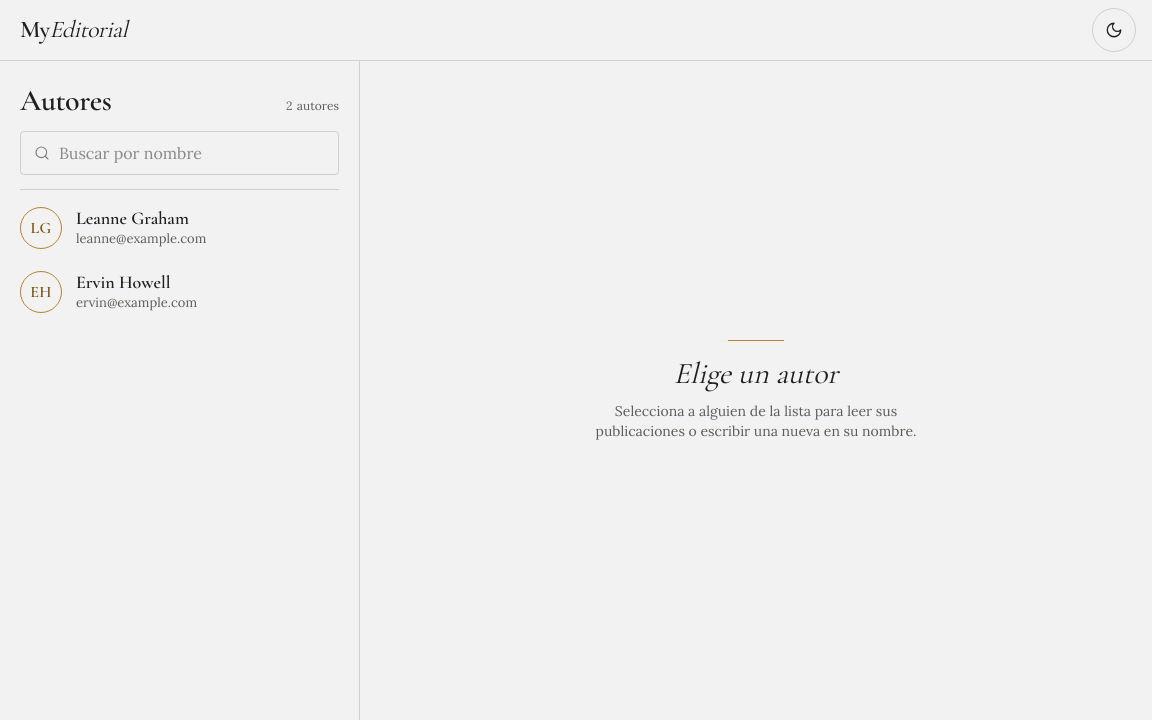
Test: App › R2: choosing an author shows their header and posts
This screenshot has width=1152, height=720.
Click the button "LG Leanne Graham leanne@example.com" at point(180, 228), box x1=8 y1=196 x2=351 y2=260
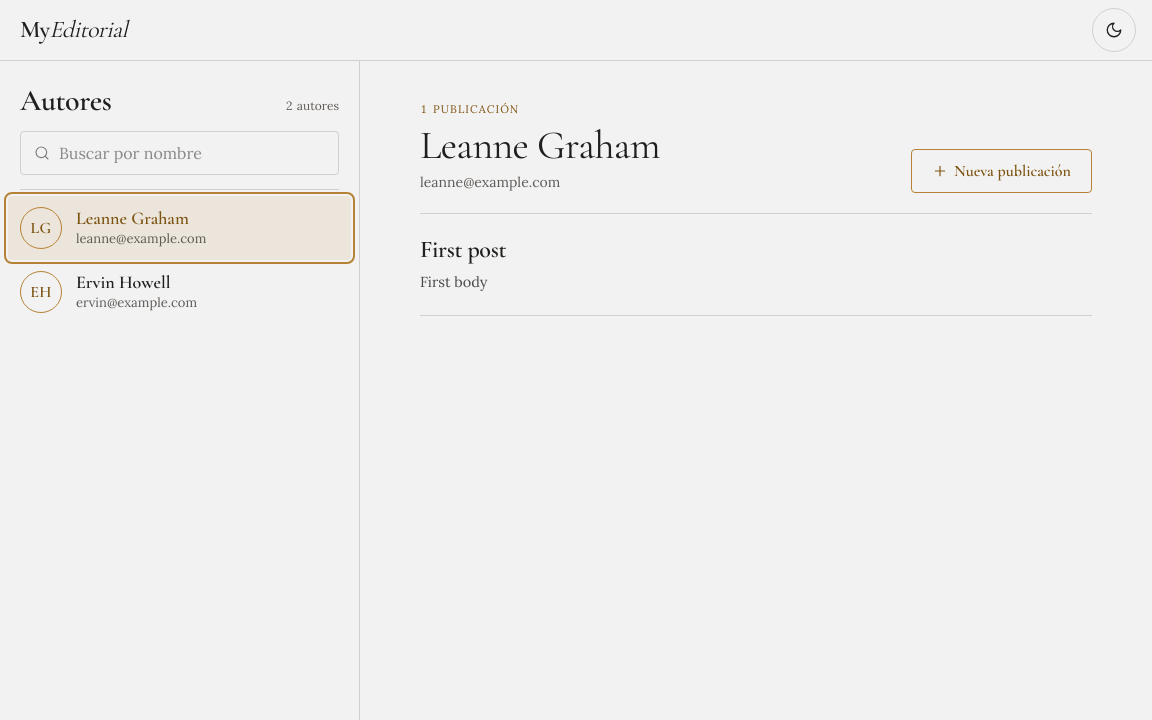
Expected: the heading "Leanne Graham" is shown, x1=420 y1=121 x2=660 y2=169
Expected: the heading "First post" is shown, x1=420 y1=235 x2=506 y2=264
Expected: the text "Elige un autor" is gone
